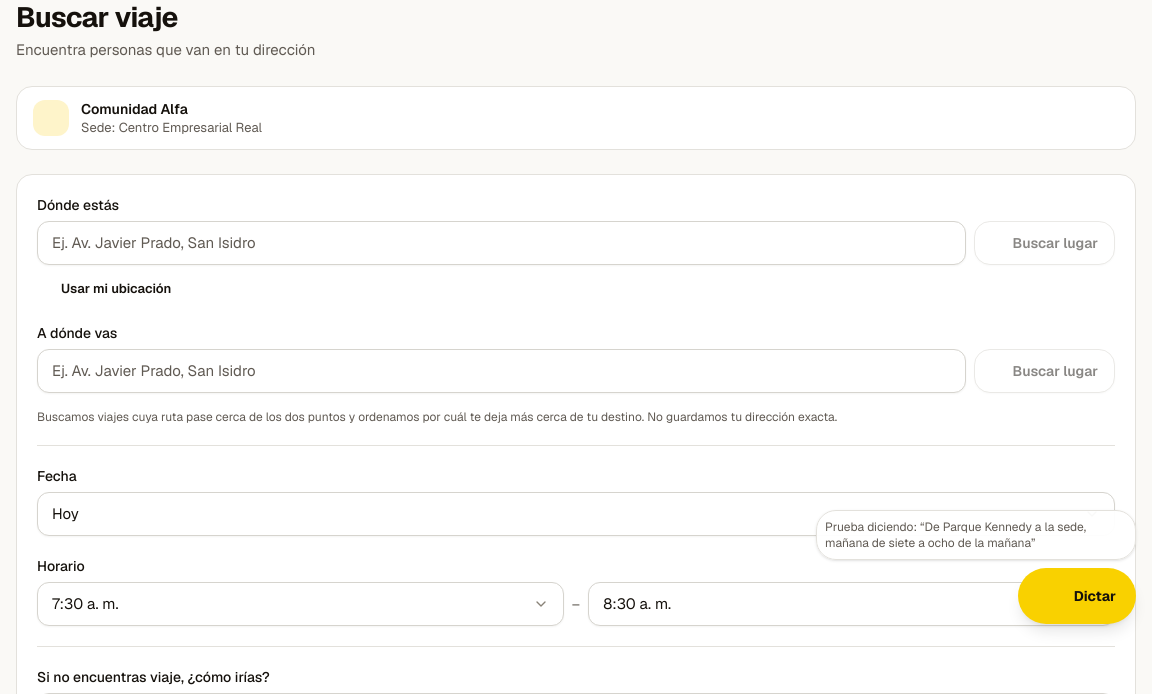
Test: search page /buscar (US-013) › distinguishes looking up a place from searching for trips
In the field labelled "Dónde estás": point(501, 243) [37, 221, 966, 265], type "San Borja"
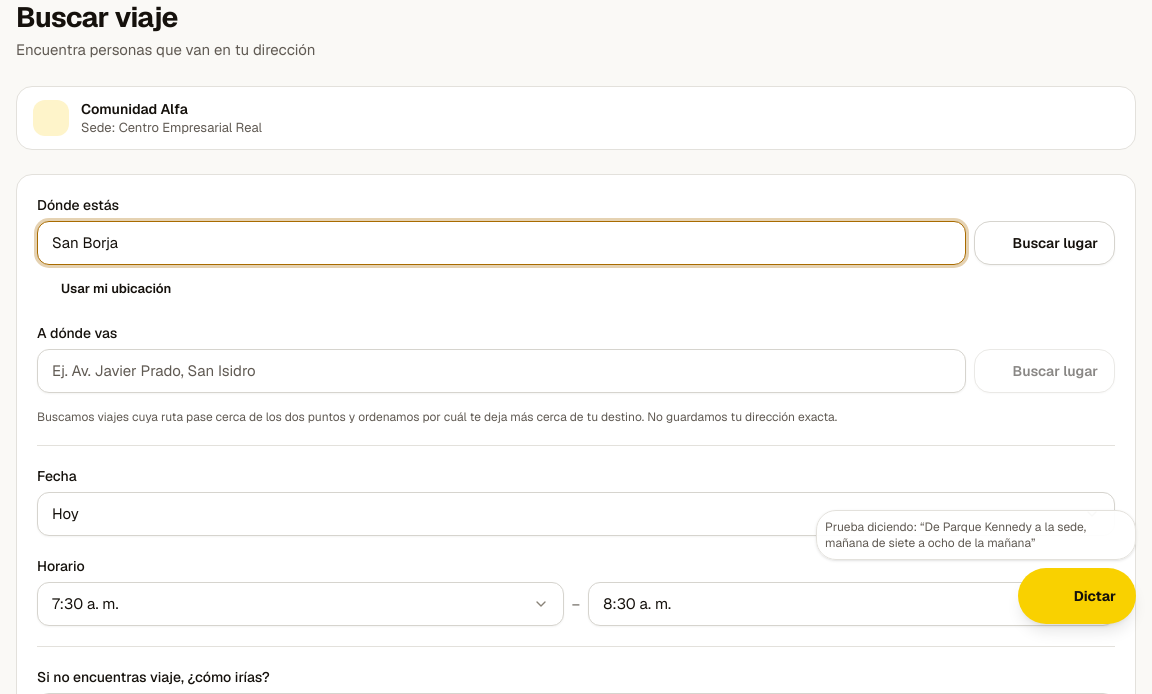
Click the 1st button "Buscar lugar": point(1044, 243) [974, 221, 1115, 265]
(page scrolled)
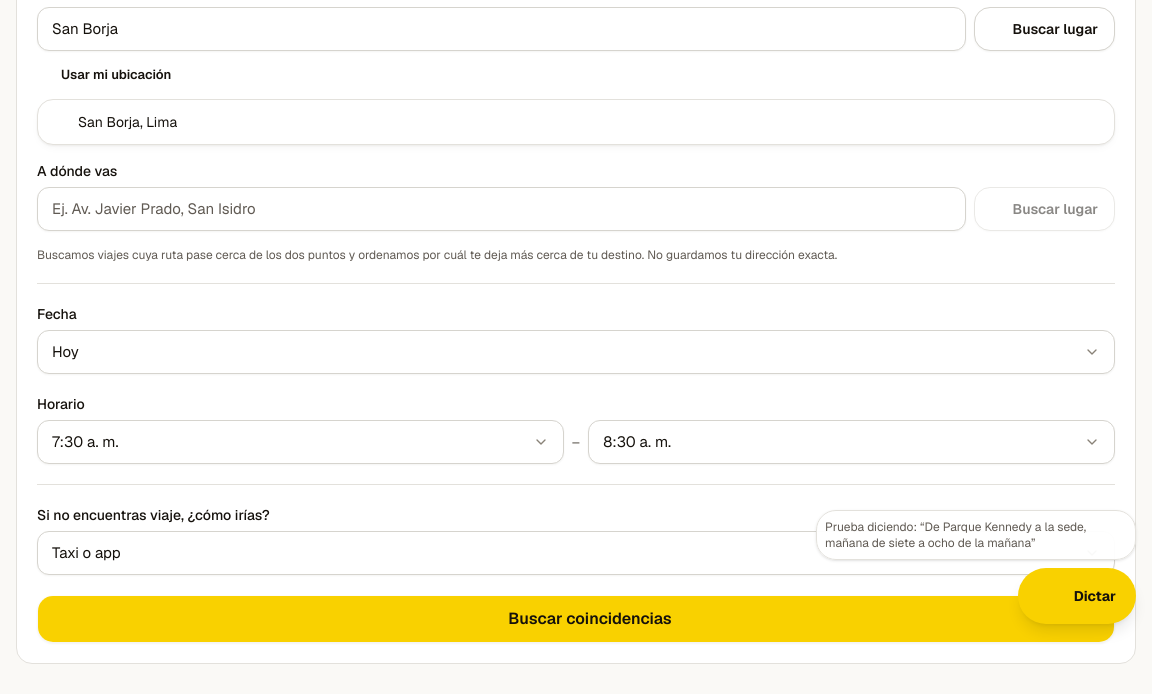
Check: the button "Buscar coincidencias" is shown, box [37, 595, 1115, 643]
Check: the button "San Borja, Lima" is shown, box [38, 100, 1114, 144]
